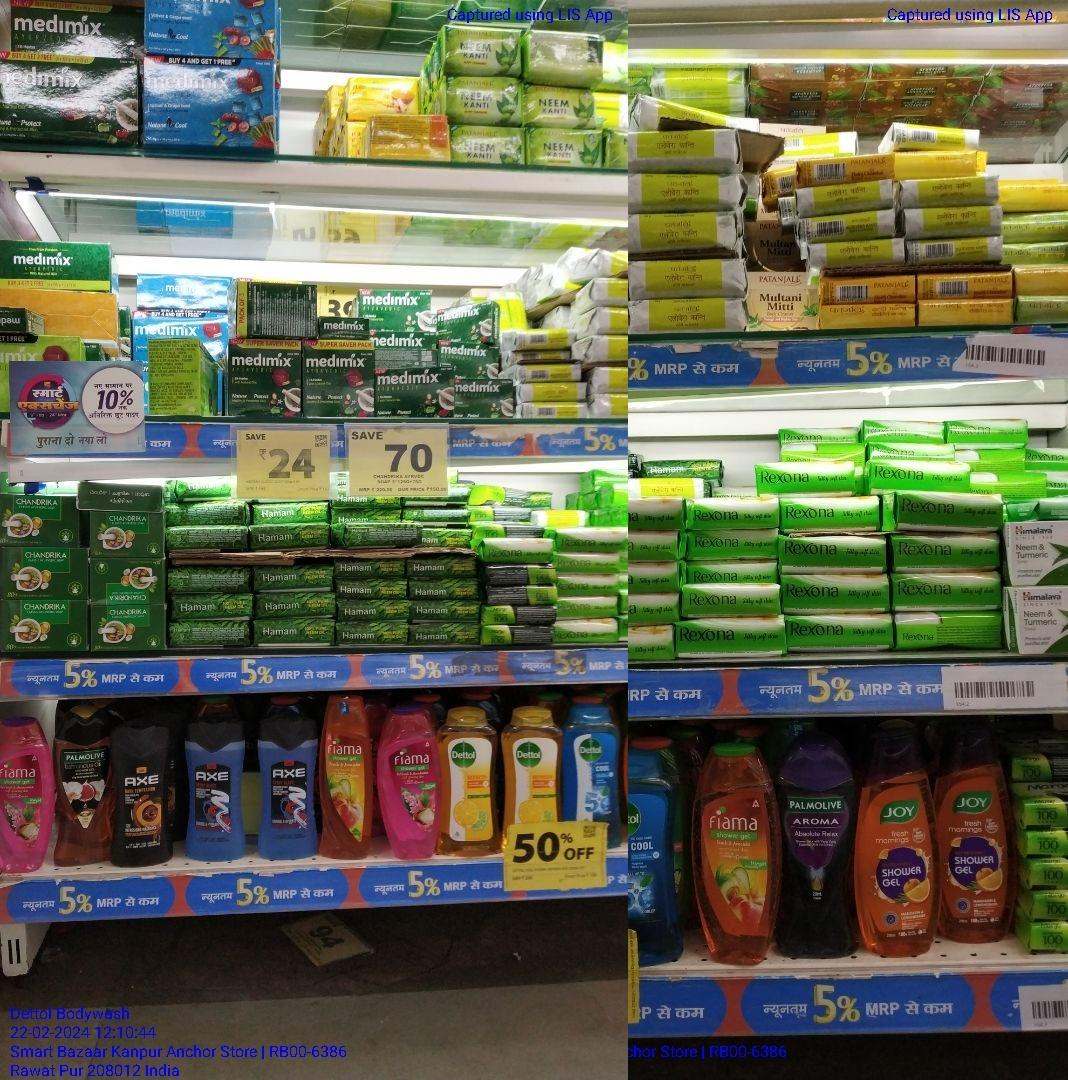Dettol_Bodywash_Cool: (565, 712, 614, 825)
Dettol_Bodywash_Refresh: (444, 711, 497, 857), (503, 709, 558, 834)
Fiama_Shower_Gel_Patchouli_and_Macadamia_250ML: (381, 714, 437, 858), (0, 717, 51, 870)
Fiama_Shower_Gel_Peach_and_Avocado_250ML: (695, 735, 771, 959), (316, 689, 370, 855)
Joy_Shower_Gel_Mandarin_and_Lemongrass_250ML: (937, 732, 1012, 939), (864, 741, 934, 956)
Palmolive_Aroma_Relax_250ML: (775, 745, 854, 960)
